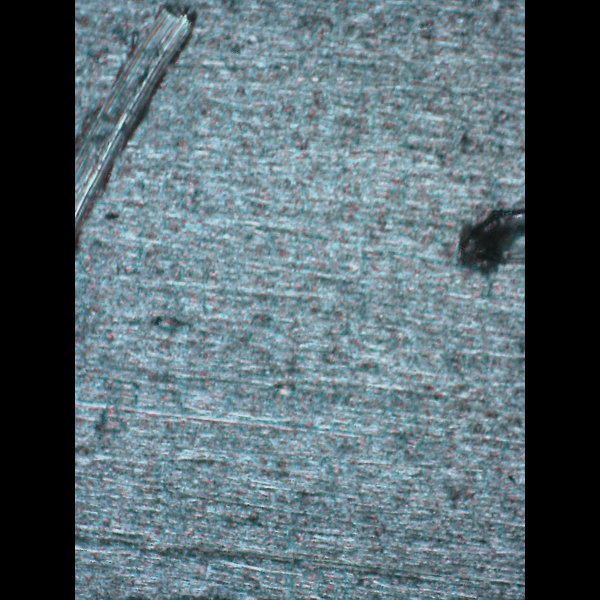d: (75, 4, 206, 268), (450, 200, 525, 286)
